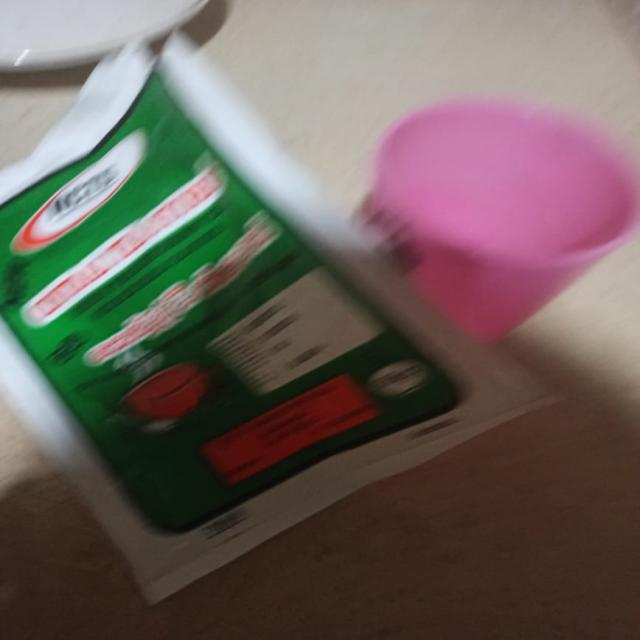Central Tea: (0, 30, 488, 625)
